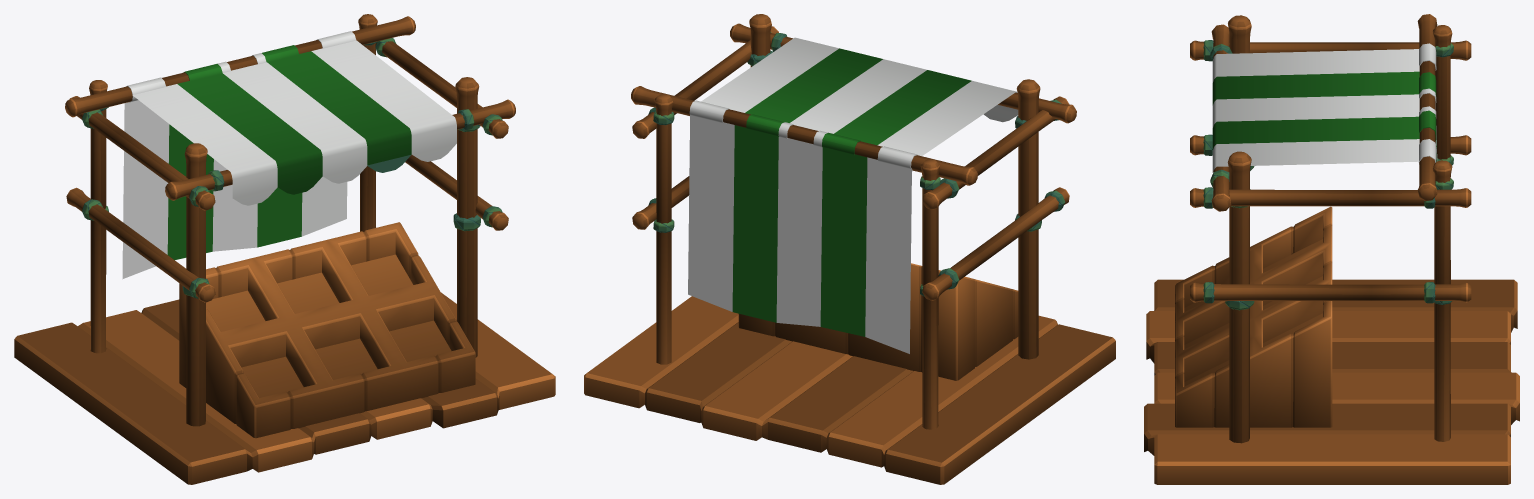
Rendered from Stall-3-1.fbx.
3 renders of one model, left to right at view 1: azimuth 30°, elevation 25°; view 2: azimuth 150°, elevation 25°; view 3: azimuth 270°, elevation 25°, orthographic. The views are drawn at different scales.
Parts seen in each view (by area): view 1: Stall-3-1; view 2: Stall-3-1; view 3: Stall-3-1.
Part boxes in pixels (x1,y1,x2,y2): Stall-3-1: [14, 14, 555, 484]; Stall-3-1: [584, 14, 1115, 484]; Stall-3-1: [1144, 14, 1519, 484].
Bounding box in the file's own units: 555 × 429 × 477.
